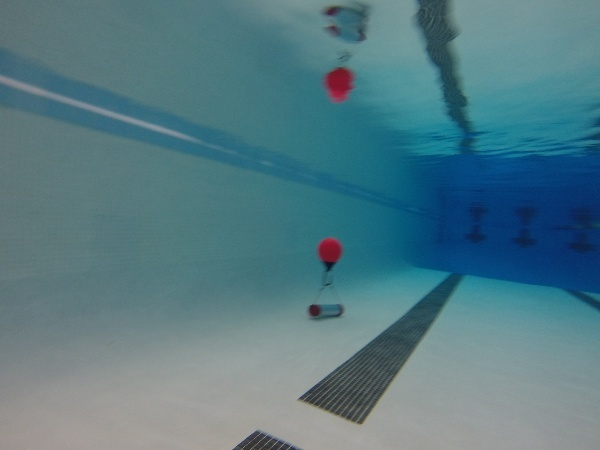buoy_red: (315, 235, 344, 273)
